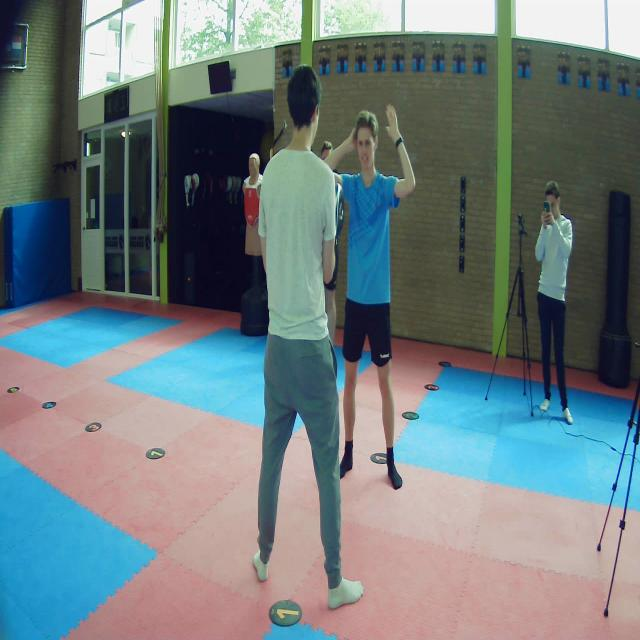paddle: (336, 183, 345, 239)
